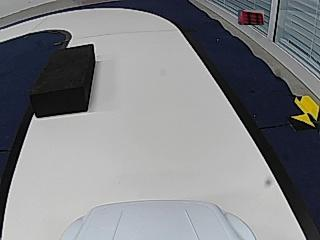block: (31, 44, 94, 118)
